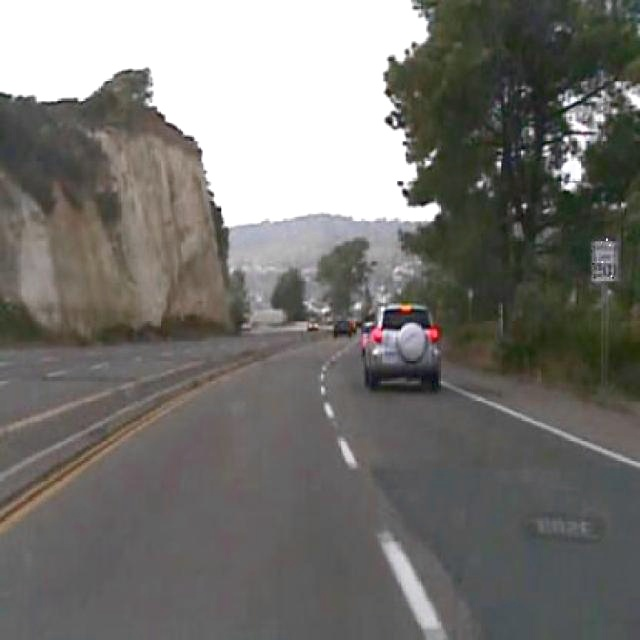speedLimit50: (591, 239, 617, 281)
